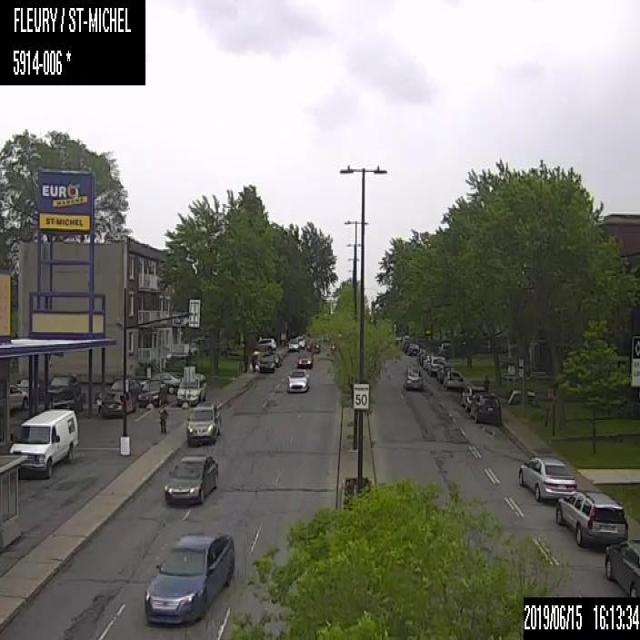pedestrian: (158, 404, 168, 435), (482, 374, 490, 394)
vehicle: (143, 528, 235, 624), (8, 406, 81, 479), (554, 486, 629, 552), (162, 451, 219, 505), (515, 454, 575, 501), (601, 540, 639, 593), (186, 402, 219, 446), (469, 395, 502, 425), (48, 371, 82, 399), (176, 372, 206, 403), (102, 389, 134, 416), (460, 382, 484, 414), (138, 382, 165, 406), (404, 366, 426, 394), (152, 372, 180, 392), (286, 367, 308, 392), (7, 384, 27, 409), (442, 369, 463, 390), (424, 356, 444, 375), (258, 353, 275, 372), (297, 351, 314, 368), (306, 337, 320, 353), (258, 337, 275, 349), (271, 351, 282, 366), (287, 337, 298, 350), (295, 334, 305, 348), (407, 343, 419, 354)
